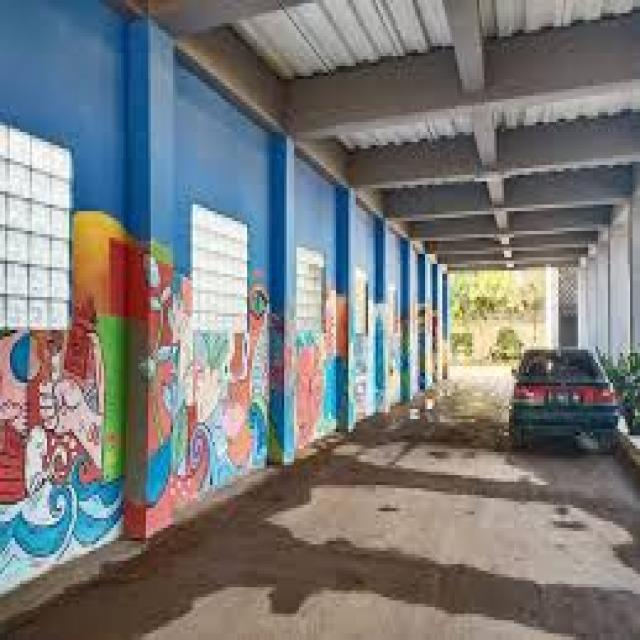-: (3, 209, 275, 592), (283, 294, 452, 458)
